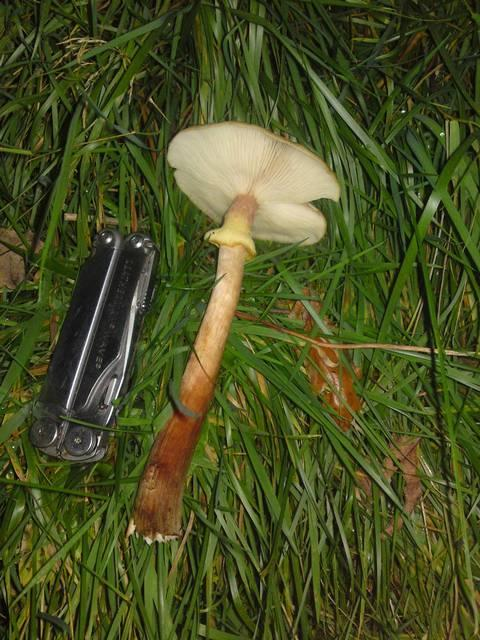edible_mushroom: (124, 119, 341, 544)
